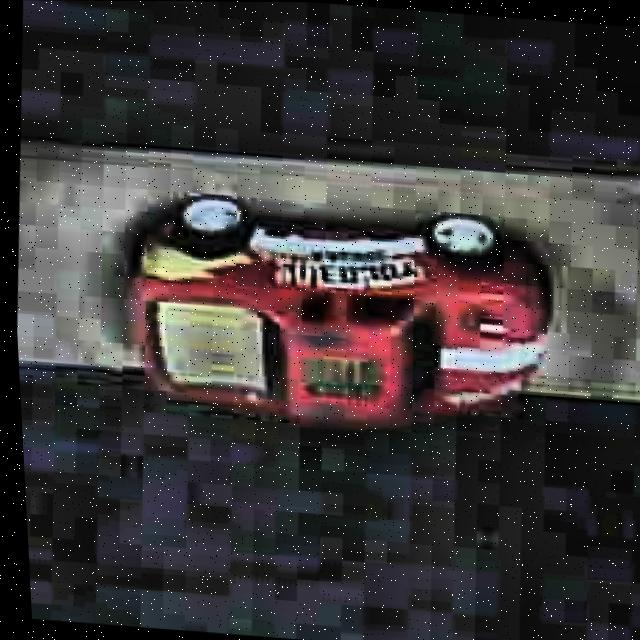car: (106, 174, 567, 442)
